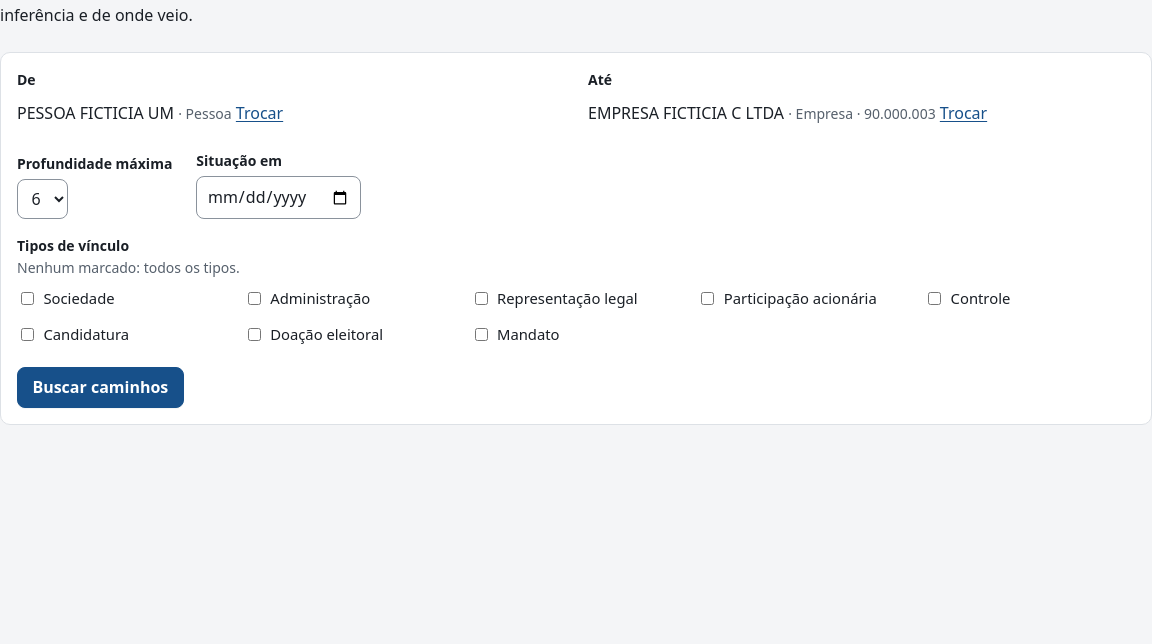
Test: PathsPage › caminhos: resultado truncado avisa
Expected: the text "EMPRESA FICTICIA C LTDA" is shown, x1=588 y1=102 x2=784 y2=124
What coordinates should you click on to do the following:
click the button "Buscar caminhos"
I would click on:
 (100, 387)
Its box is x1=17 y1=366 x2=184 y2=408.
(page scrolled)
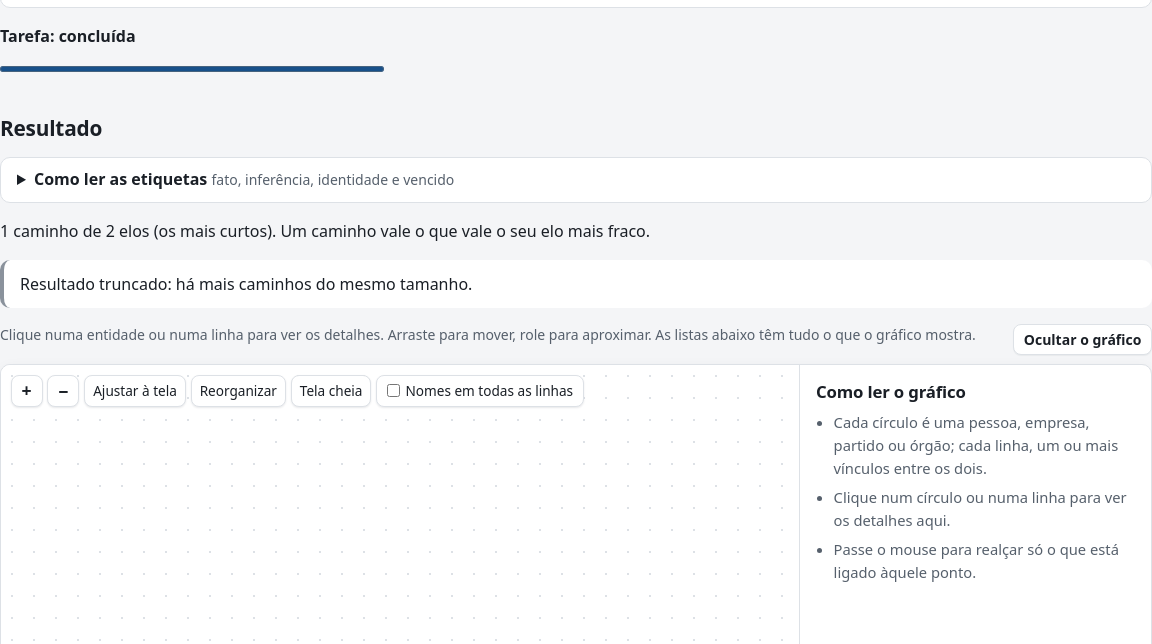
Result: the text "Resultado truncado: há mais caminhos do mesmo tamanho." is shown at x1=20 y1=273 x2=472 y2=295
